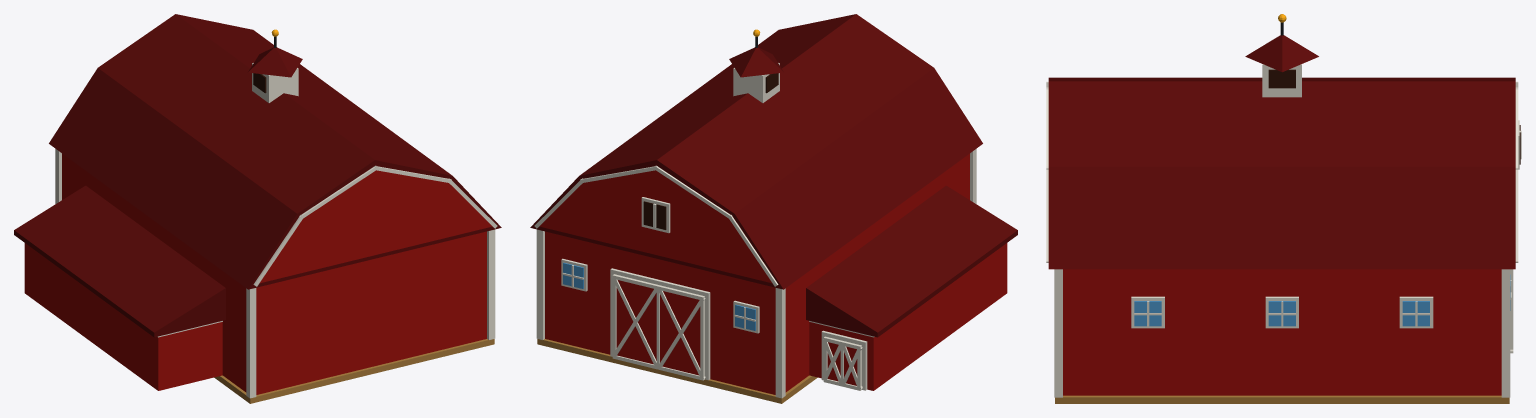
File: BigBarn.obj
The picture shows the model from 3 angles, left to right: view 1: azimuth 30°, elevation 25°; view 2: azimuth 150°, elevation 25°; view 3: azimuth 270°, elevation 25°; orthographic projection. The views are drawn at different scales.
Parts seen in each view (by area): view 1: BigBarn; view 2: BigBarn; view 3: BigBarn.
Part boxes in pixels (x1,y1,x2,y2): BigBarn: (14,14,501,403); BigBarn: (530,14,1017,403); BigBarn: (1046,14,1521,403).
Size of the model in its own units: 9.69 by 7.95 by 10.72.
